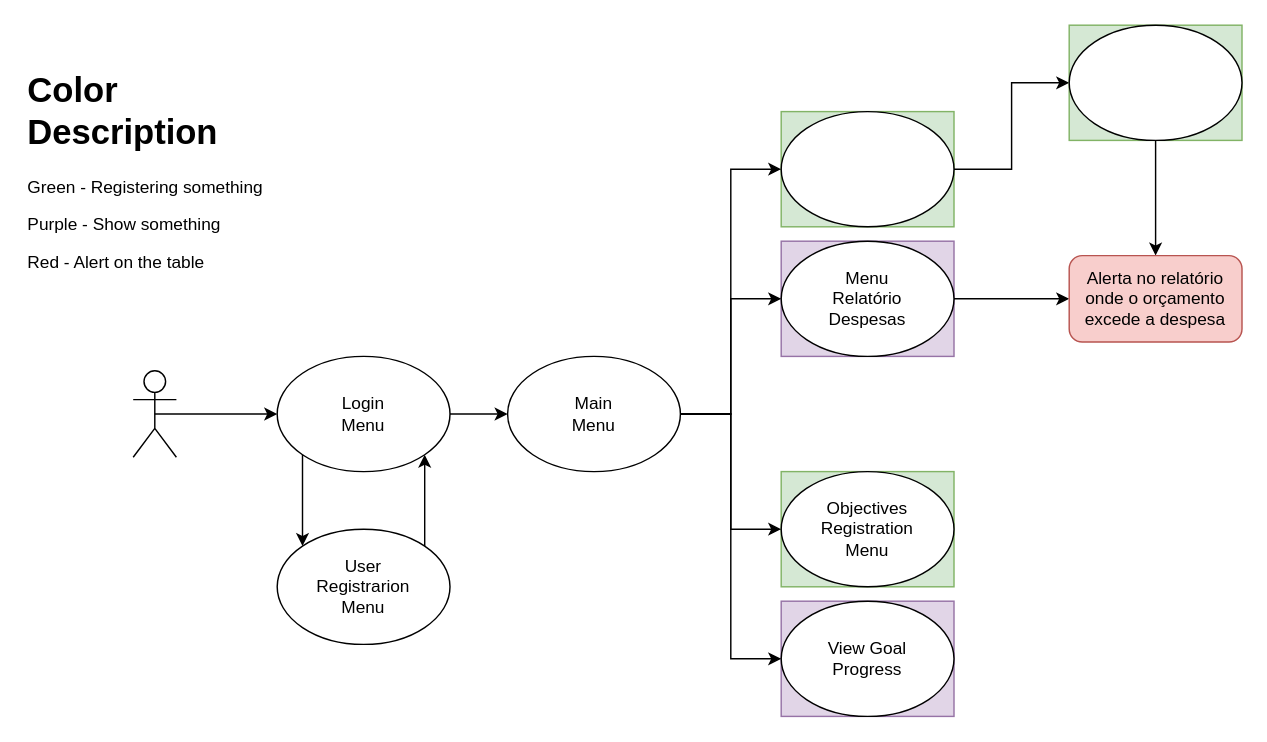
This 1267x742 diagram has some shape labels left out. The shapes that lost their labels are listed below. From the top down, each one's box as (x1, y1, x2, y2) in pixels, then its label:
(1068, 24, 1242, 140): Cadastro Orçamento Por Despesa
(780, 110, 954, 227): Menu Cadastro Despesas
(132, 369, 176, 457): User
